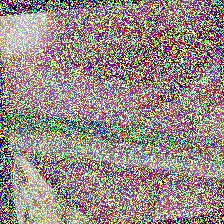Leaf_Blast: (14, 129, 224, 184)
